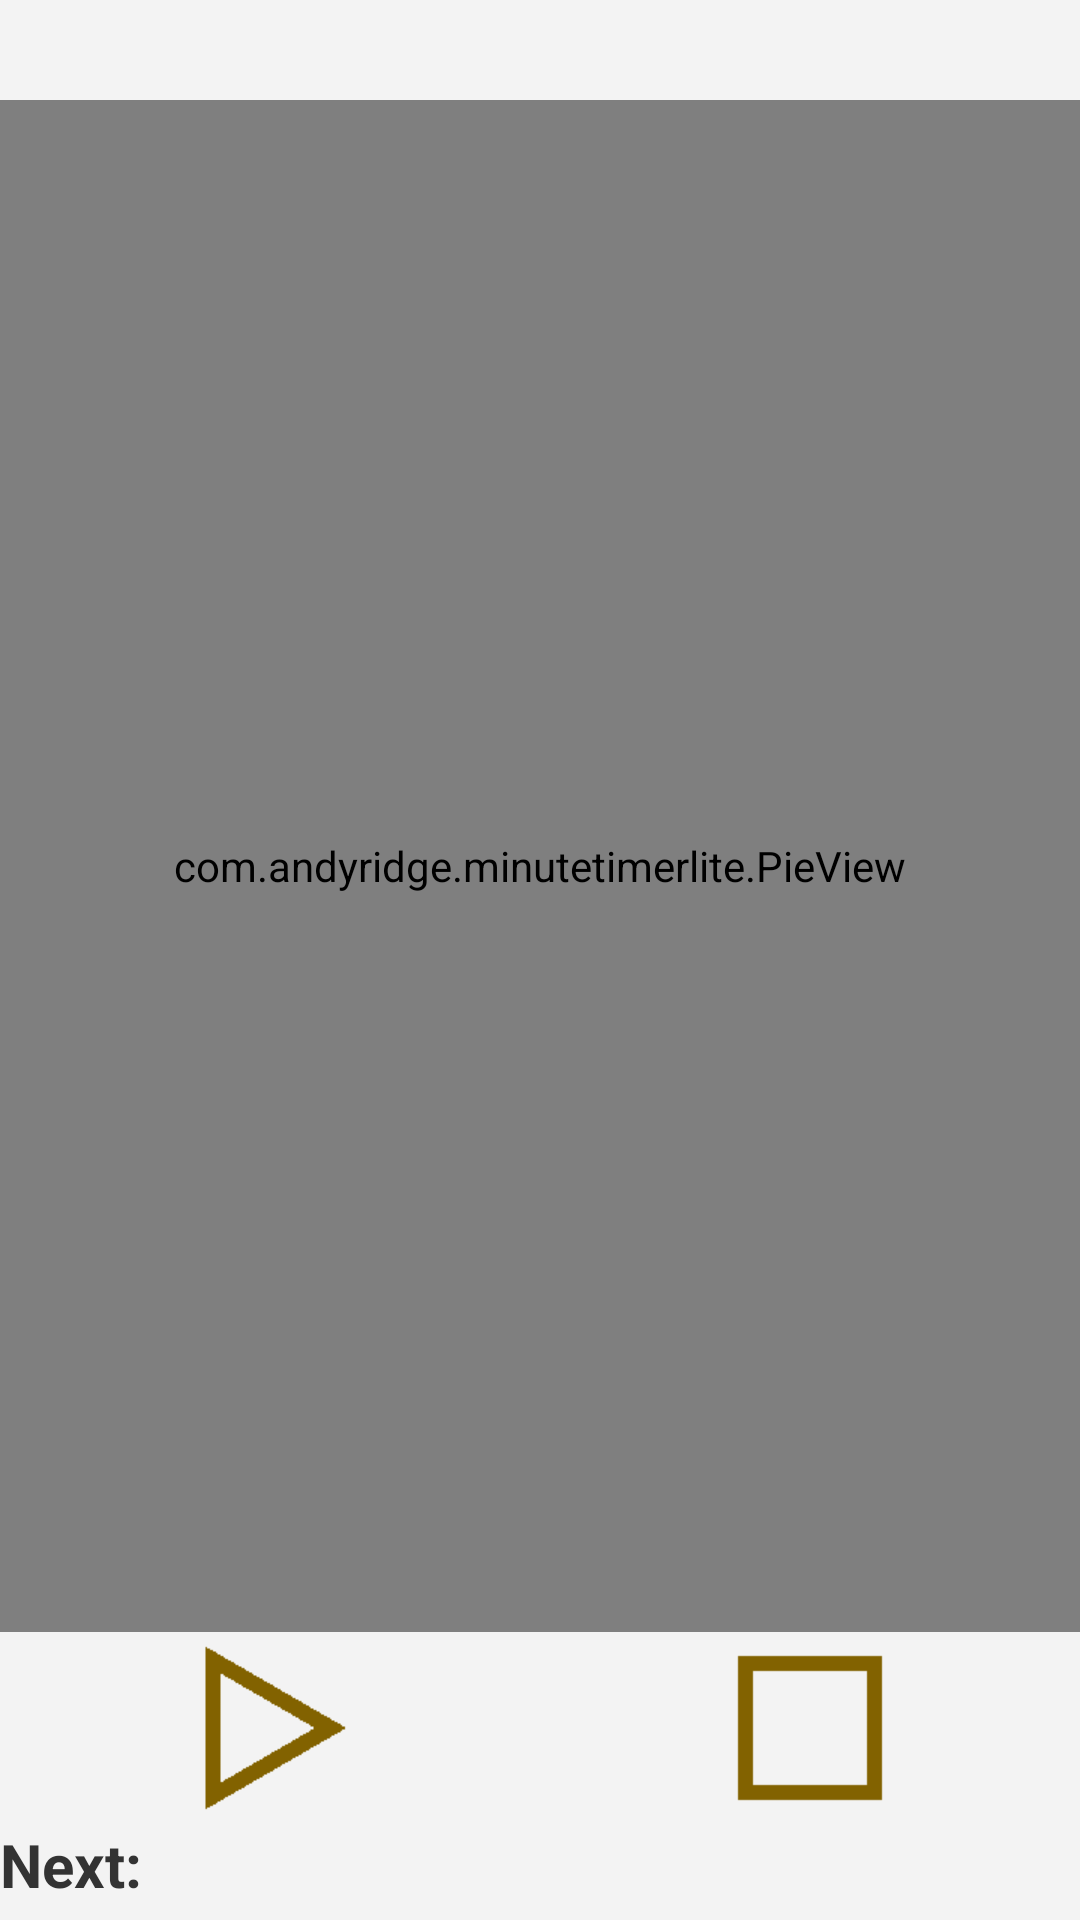

Screen size 1080×1920. Icon name, then its box in pixels as (x1, y1, x2, y2):
Start exercise button: (205, 1646, 346, 1810)
Stop exercise button: (737, 1655, 883, 1801)
